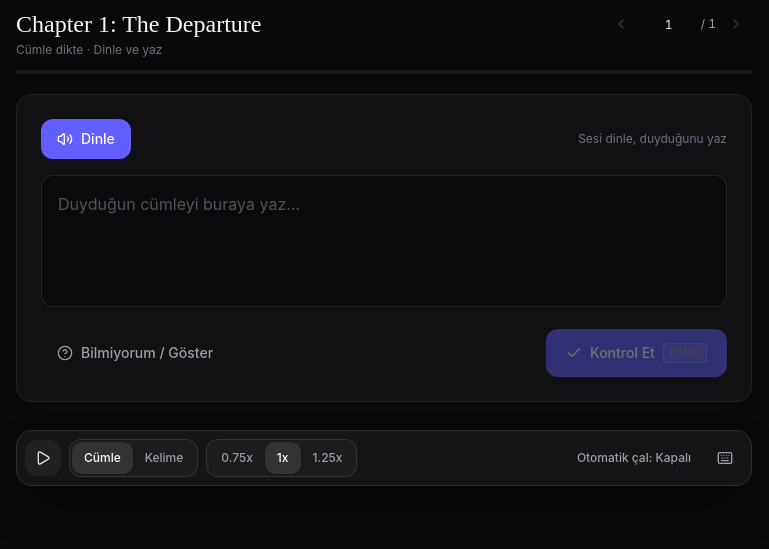
Scenario: StudySessionView Component (Faz 1 & Faz 3) › word mode builds the sentence with Turkish meanings under solved words only
Click the button "Kelime": x=164, y=458 top-left (133, 442), bottom-right (195, 474)
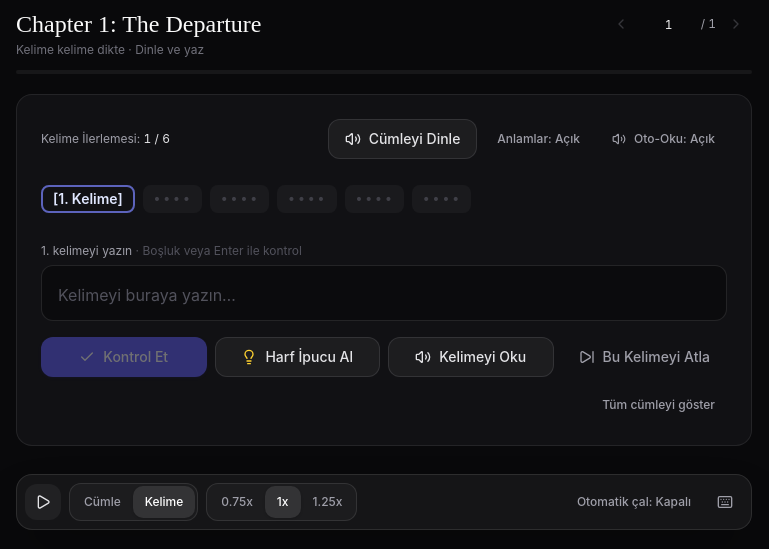
In the field with placeholder "Kelimeyi buraya yazın…": x=384, y=293 top-left (41, 265), bottom-right (727, 321), type "he"
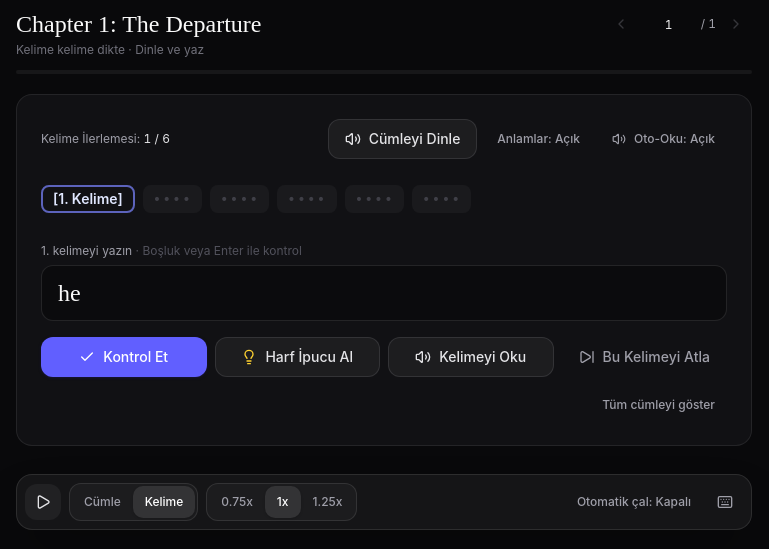
Click the button "Kontrol Et": x=124, y=357 top-left (41, 337), bottom-right (206, 377)
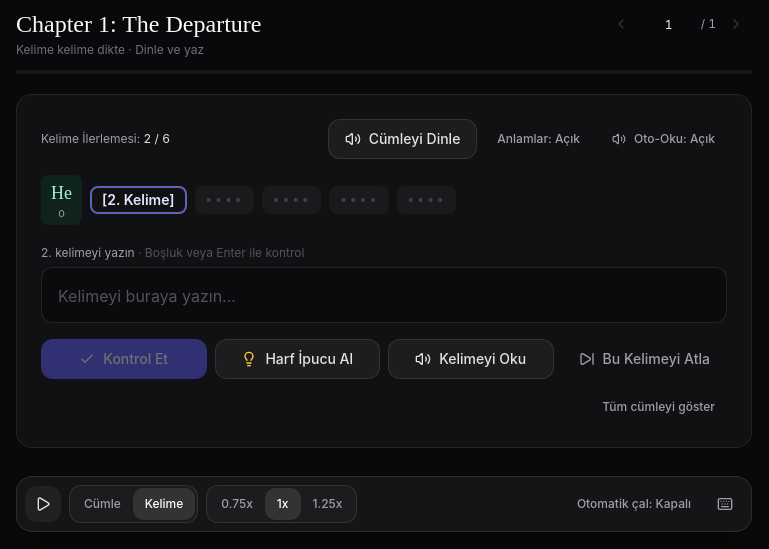
expect the text "toplamak" is not shown: met
expect the text "o" is shown: met, box top-left (58, 207), bottom-right (65, 221)
In the field with placeholder "Kelimeyi buraya yazın…": x=384, y=295 top-left (41, 267), bottom-right (727, 323), type "packed"
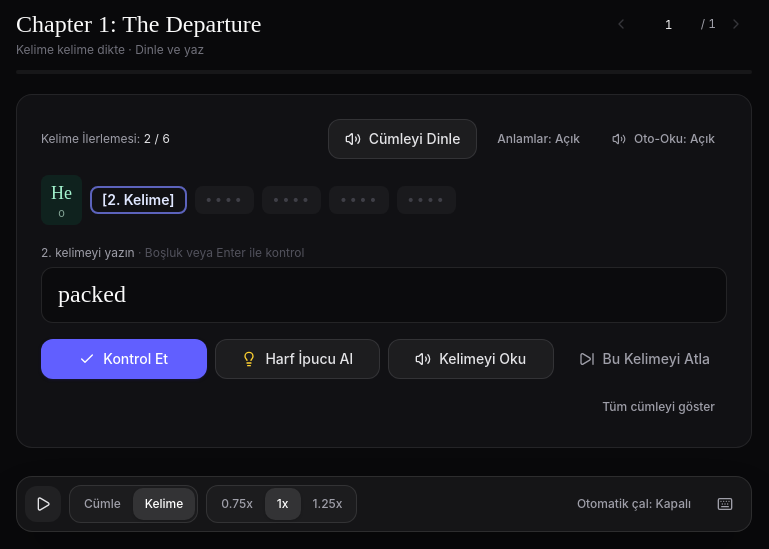
Click the button "Kontrol Et": x=124, y=359 top-left (41, 339), bottom-right (206, 379)
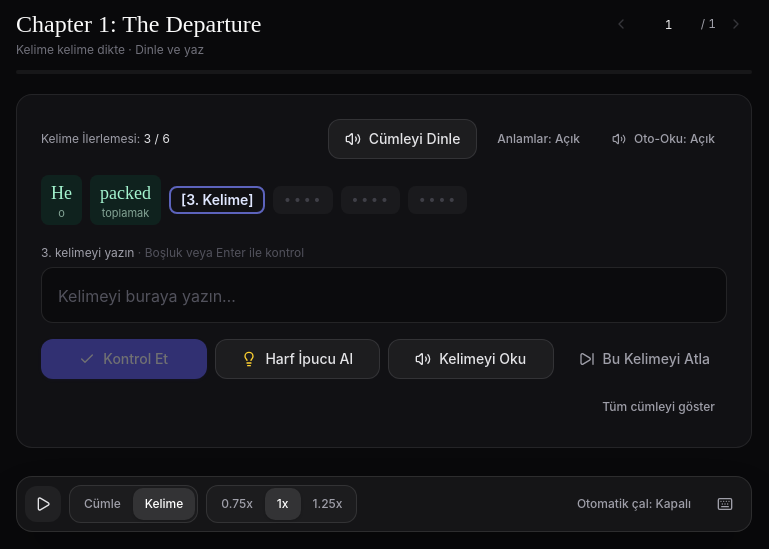
expect the text "toplamak" is shown: met, box top-left (102, 207), bottom-right (149, 221)
expect the number of elements with test id "word-gloss" is 2: met, box top-left (58, 207), bottom-right (65, 221); top-left (102, 207), bottom-right (149, 221)
Click the button "Anlamlar: Açık": x=539, y=139 top-left (485, 123), bottom-right (592, 155)
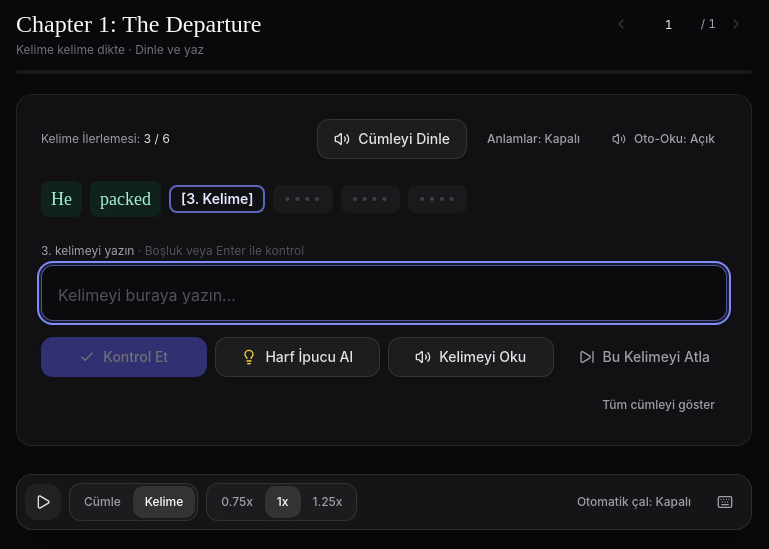
expect no elements with test id "word-gloss" are shown: met
